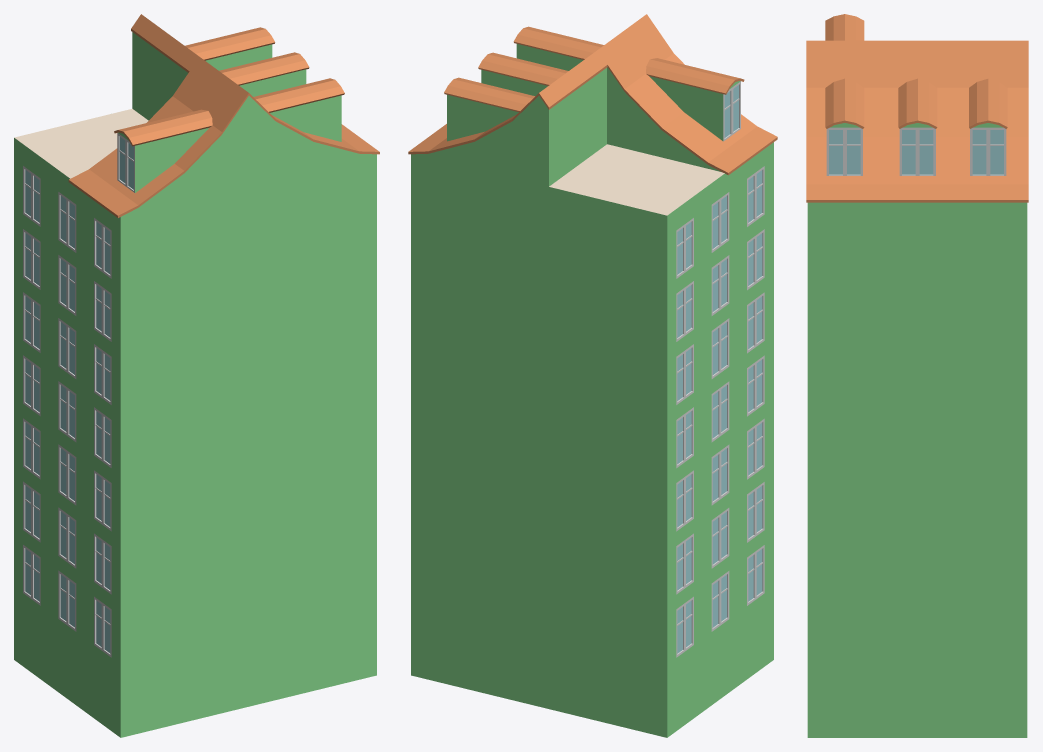
Rendered from Building_13.fbx.
3 views of the same model, side by side, from view 1: azimuth 30°, elevation 25°; view 2: azimuth 150°, elevation 25°; view 3: azimuth 270°, elevation 25° (orthographic). The views are drawn at different scales.
Parts seen in each view (by area): view 1: Building_13; view 2: Building_13; view 3: Building_13.
Part boxes in pixels (left/top/right/bottom): Building_13: left=14, top=14, right=379, bottom=737; Building_13: left=408, top=14, right=777, bottom=737; Building_13: left=806, top=14, right=1028, bottom=737.
Size of the model in its own units: 1120 by 2512 by 799.
